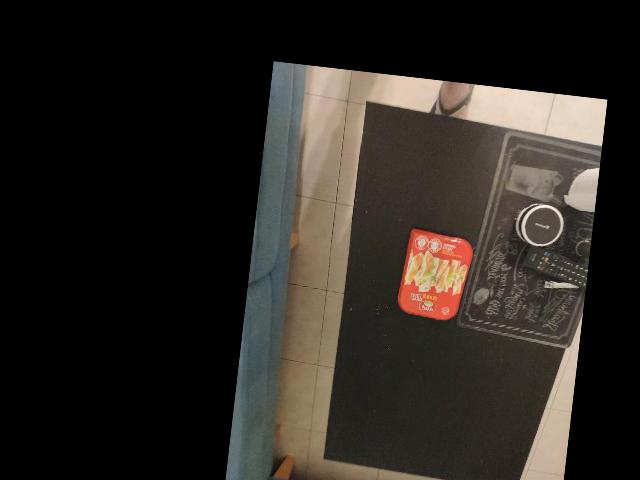cheese: (395, 227, 475, 323)
